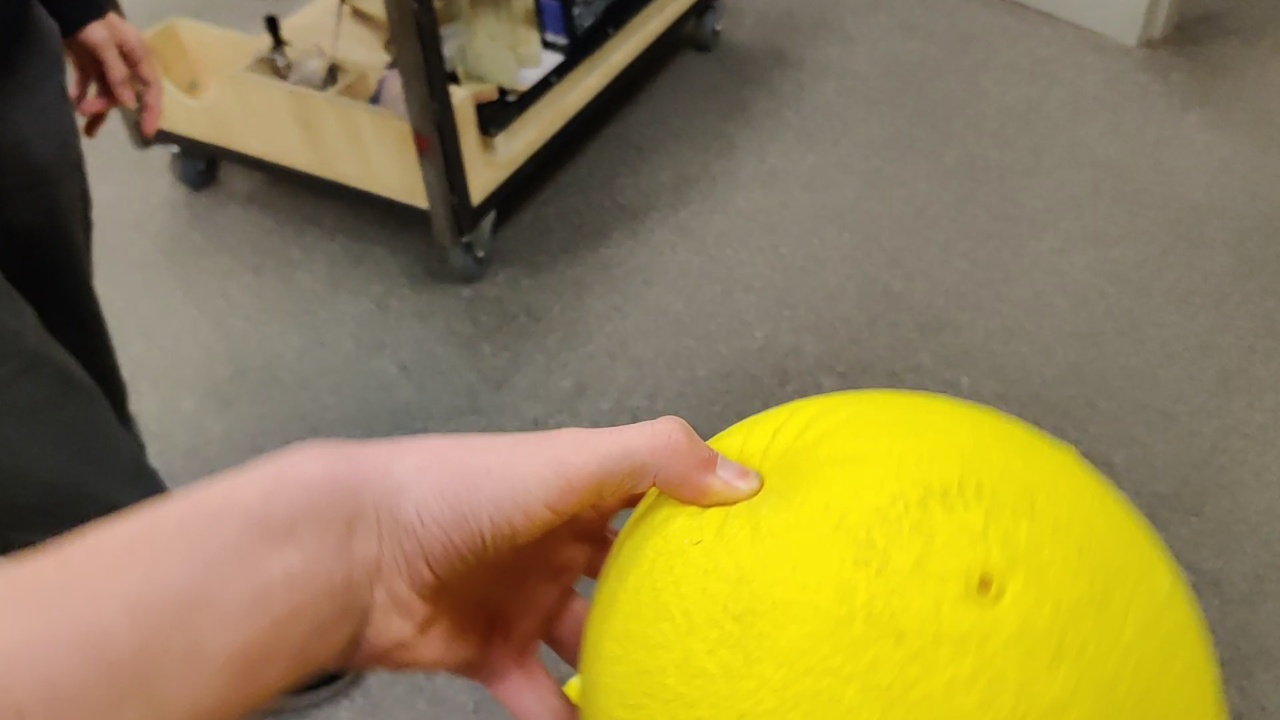Ball: (580, 383, 1232, 720)
